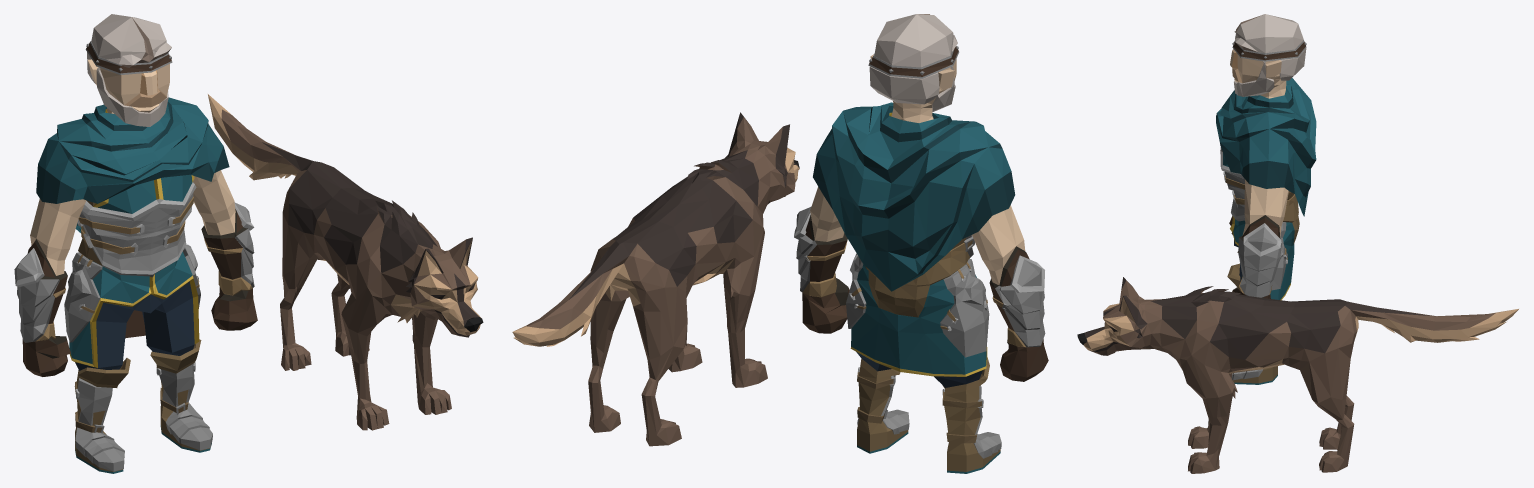
File: Quest0_characters.fbx
3 views of the same model, side by side, from view 1: azimuth 30°, elevation 25°; view 2: azimuth 150°, elevation 25°; view 3: azimuth 270°, elevation 25° (orthographic). The views are drawn at different scales.
Visible parts, largest first — view 1: campsite_07tri:Aldmer, AldmerDog_03tri; view 2: campsite_07tri:Aldmer, AldmerDog_03tri; view 3: AldmerDog_03tri, campsite_07tri:Aldmer.
Boxes of the visible parts, <box> form: campsite_07tri:Aldmer: <box>14,14,257,473</box>; AldmerDog_03tri: <box>208,94,483,430</box>; campsite_07tri:Aldmer: <box>794,14,1048,473</box>; AldmerDog_03tri: <box>512,112,799,446</box>; AldmerDog_03tri: <box>1077,277,1518,473</box>; campsite_07tri:Aldmer: <box>1216,14,1316,384</box>.
Size of the model in its own units: 871 by 900 by 1030.
